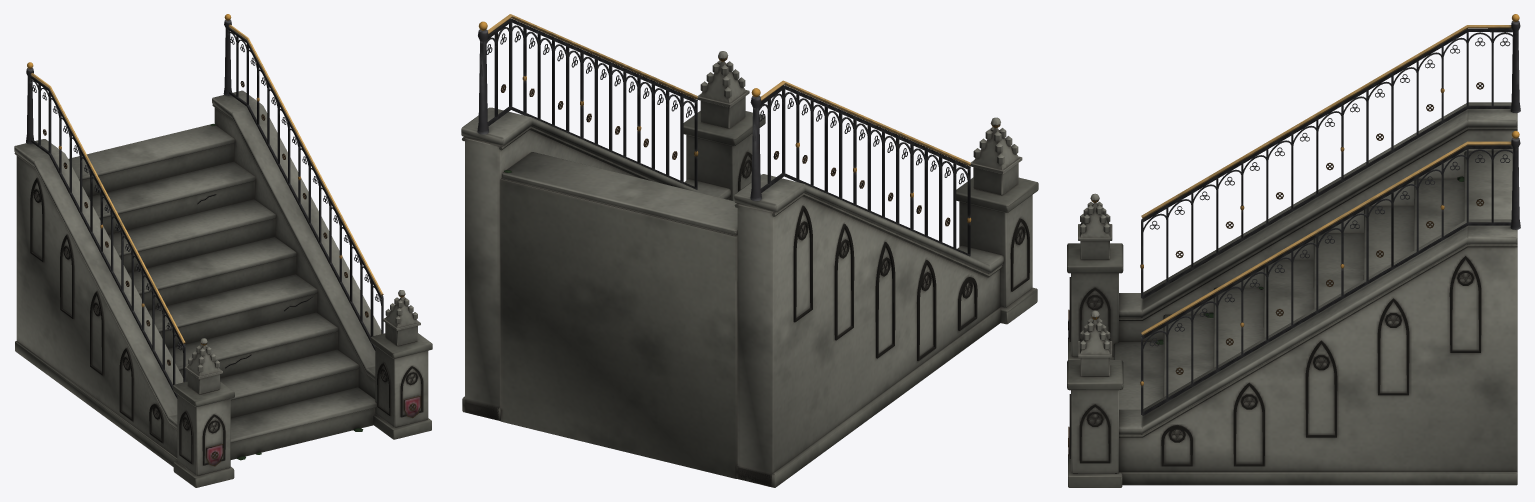
The model's file is StairStoneRailed.fbx.
The picture shows the model from 3 angles, left to right: view 1: azimuth 30°, elevation 25°; view 2: azimuth 150°, elevation 25°; view 3: azimuth 270°, elevation 25°; orthographic projection. The views are drawn at different scales.
Visible parts, largest first — view 1: StairStoneRailed_Main, StairStoneRailed_Rail; view 2: StairStoneRailed_Main, StairStoneRailed_Rail; view 3: StairStoneRailed_Main, StairStoneRailed_Rail.
Boxes of the visible parts, left/top/right/bottom form: StairStoneRailed_Main: left=14, top=90, right=432, bottom=487; StairStoneRailed_Rail: left=26, top=14, right=383, bottom=398; StairStoneRailed_Main: left=461, top=51, right=1038, bottom=487; StairStoneRailed_Rail: left=477, top=14, right=971, bottom=256; StairStoneRailed_Main: left=1067, top=102, right=1517, bottom=487; StairStoneRailed_Rail: left=1140, top=14, right=1520, bottom=415.
Bounding box in the file's own units: 830 × 956 × 1133.
